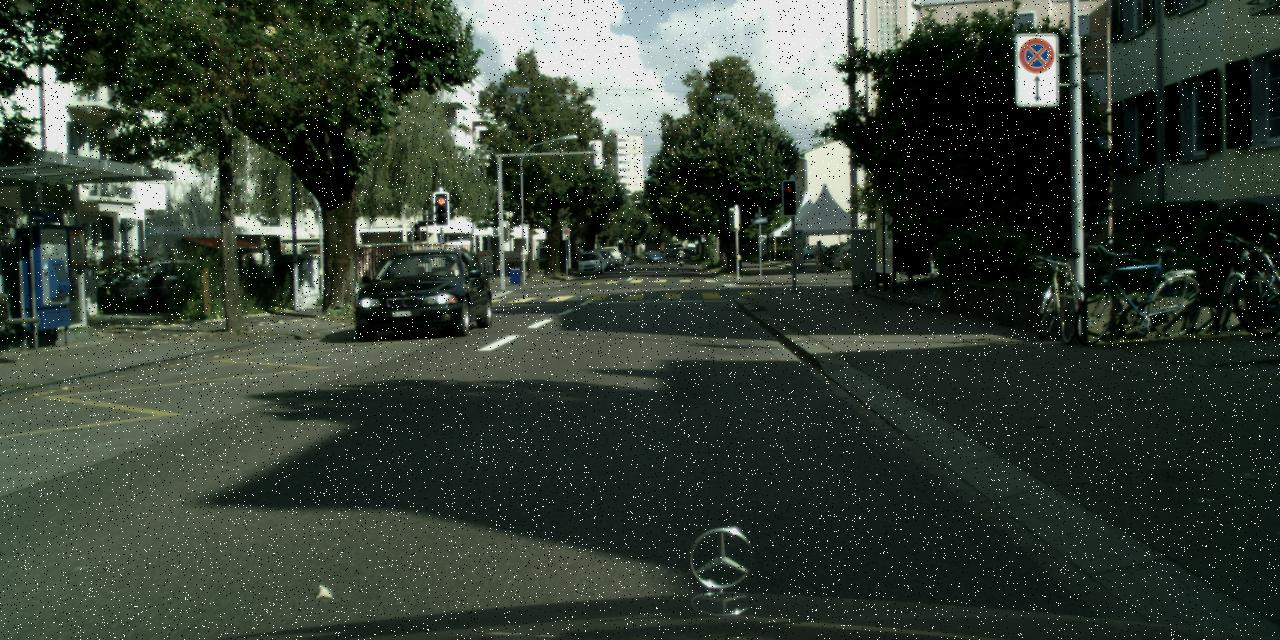ped: (813, 240, 825, 272), (836, 241, 847, 269), (678, 249, 683, 264)
